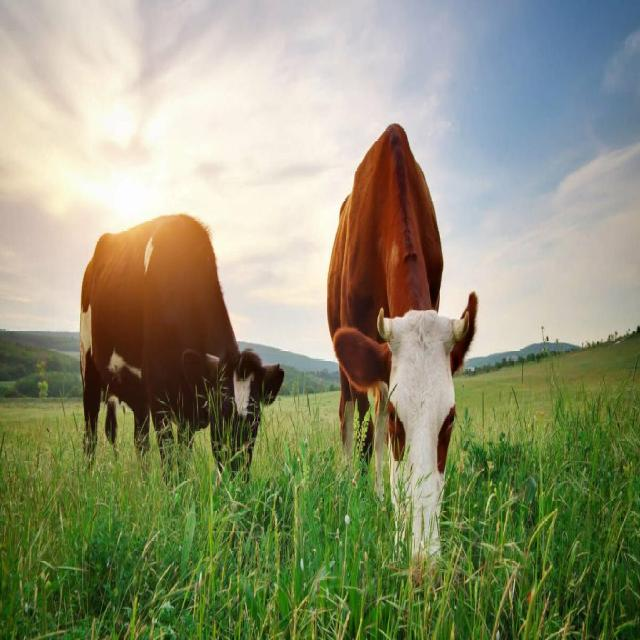Herbivorous: (327, 123, 478, 588), (79, 214, 284, 470)
